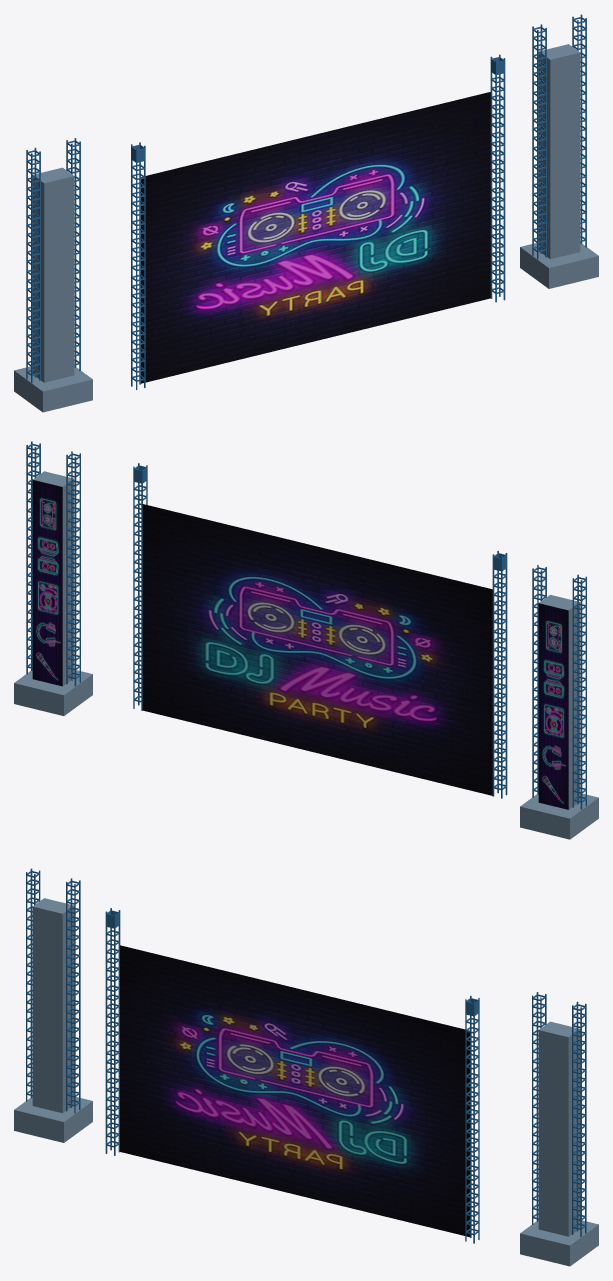
The model's file is ETC0110008.fbx.
3 renders of one model, top to bottom at view 1: azimuth 30°, elevation 25°; view 2: azimuth 150°, elevation 25°; view 3: azimuth 330°, elevation 25°, orthographic.
Visible parts, largest first — view 1: smETC0110008; view 2: smETC0110008; view 3: smETC0110008.
Boxes of the visible parts, bbox=[...] form: smETC0110008: bbox=[14, 14, 598, 412]; smETC0110008: bbox=[14, 441, 598, 839]; smETC0110008: bbox=[14, 868, 598, 1266].
Bounding box in the file's own units: 1580 × 679 × 147.
2 materials, 2 textured.
